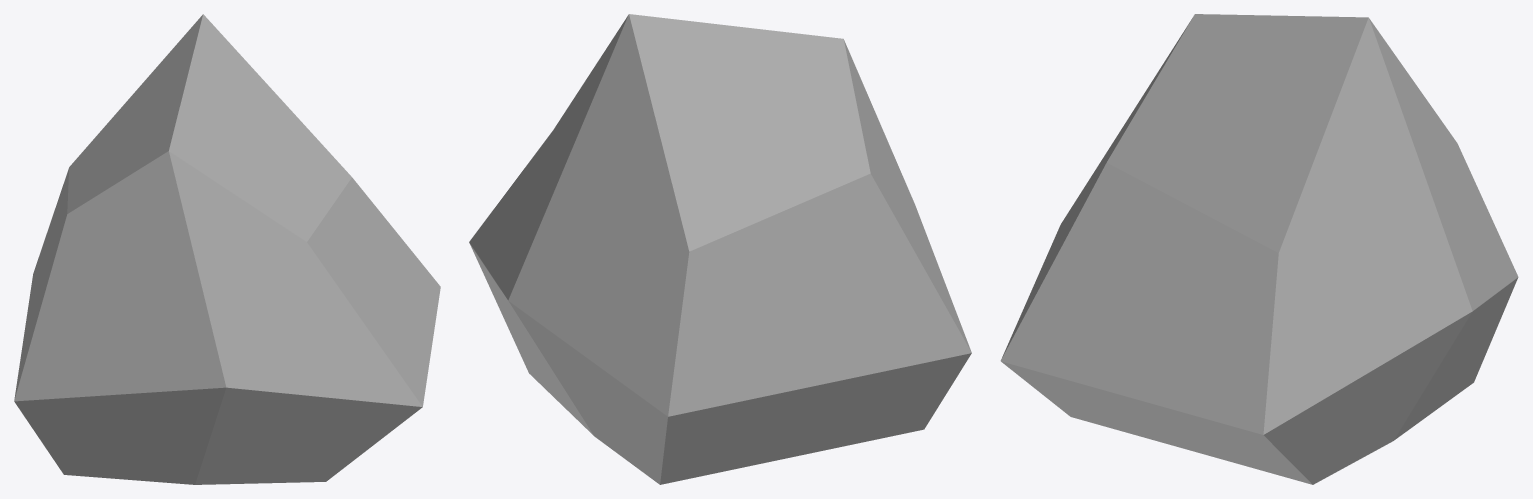
File: rock.glb
3 renders of one model, left to right at view 1: azimuth 30°, elevation 25°; view 2: azimuth 150°, elevation 25°; view 3: azimuth 270°, elevation 25°, orthographic. The views are drawn at different scales.
Parts seen in each view (by area): view 1: Cube.191; view 2: Cube.191; view 3: Cube.191.
Part boxes in pixels (box(x1,y1,x2,y2)): Cube.191: box(14, 14, 440, 484); Cube.191: box(469, 14, 971, 484); Cube.191: box(1000, 14, 1518, 484).
Bounding box in the file's own units: 2.2 × 1.8 × 2.03.
1 material, 1 textured.
